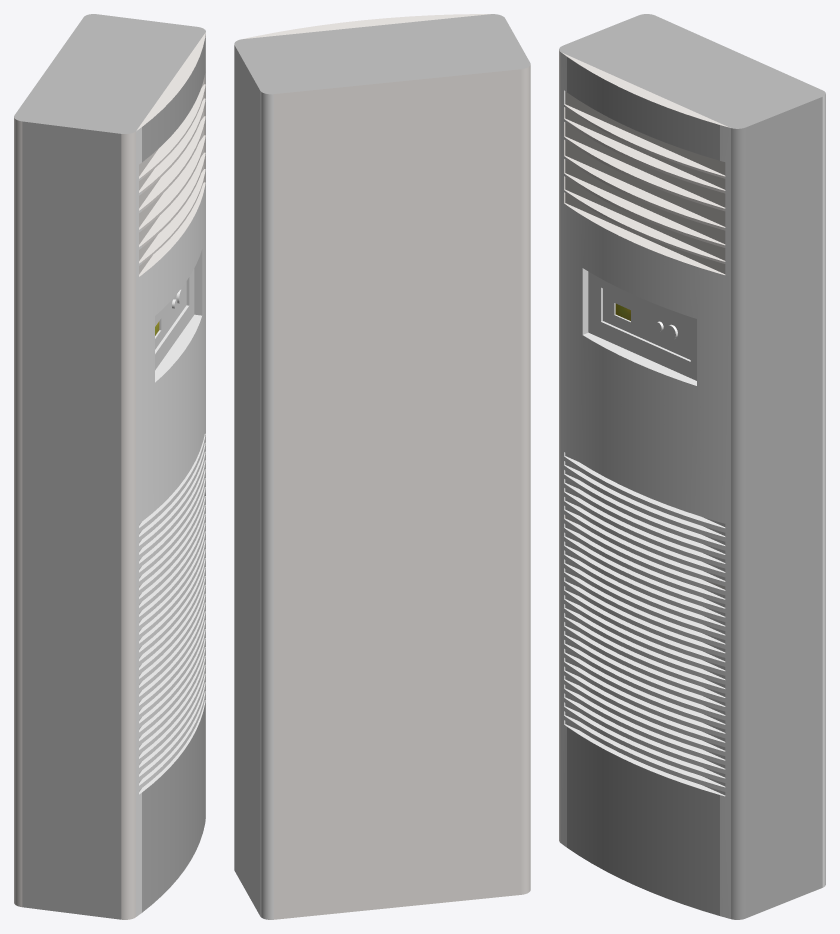
Rendered from 空调2_fixed.glb.
The picture shows the model from 3 angles, left to right: view 1: azimuth 30°, elevation 25°; view 2: azimuth 150°, elevation 25°; view 3: azimuth 270°, elevation 25°; orthographic projection. The views are drawn at different scales.
Visible parts, largest first — view 1: room_410_air_conditioner_02_mesh; view 2: room_410_air_conditioner_02_mesh; view 3: room_410_air_conditioner_02_mesh.
Part boxes in pixels (bbox=[...]): room_410_air_conditioner_02_mesh: bbox=[14, 14, 205, 919]; room_410_air_conditioner_02_mesh: bbox=[234, 14, 530, 919]; room_410_air_conditioner_02_mesh: bbox=[559, 14, 825, 919].
Size of what is drawn, in the model's own units: 1.41 by 4.54 by 1.39.
4 materials, 1 textured.
